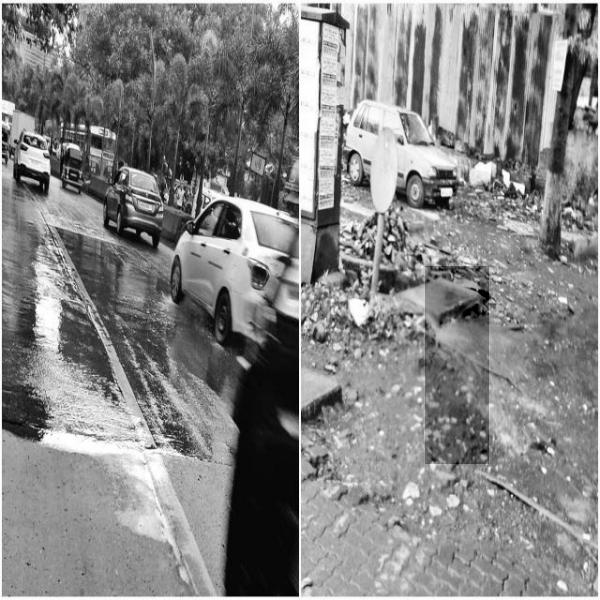leak: (425, 266, 489, 464)
